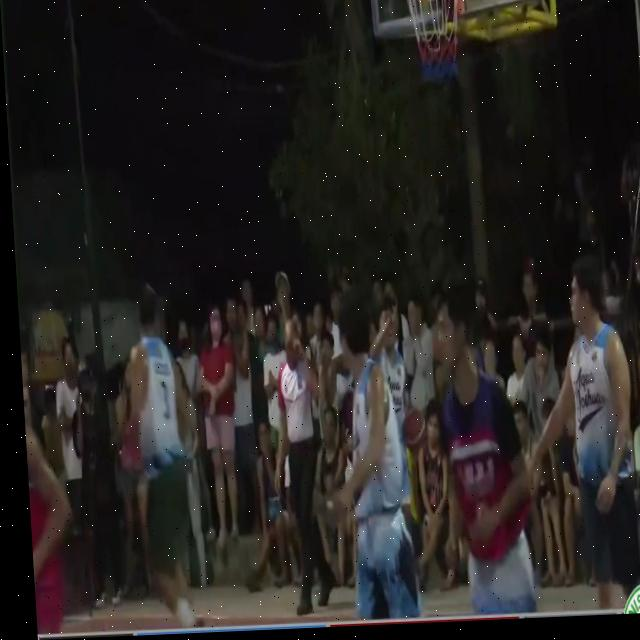basketball: (398, 404, 430, 451)
hoop: (405, 0, 467, 94)
